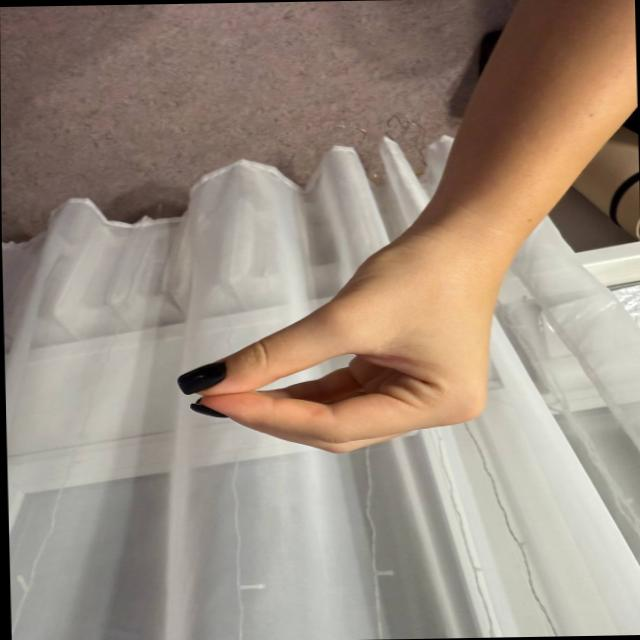zh: (117, 274, 543, 458)
